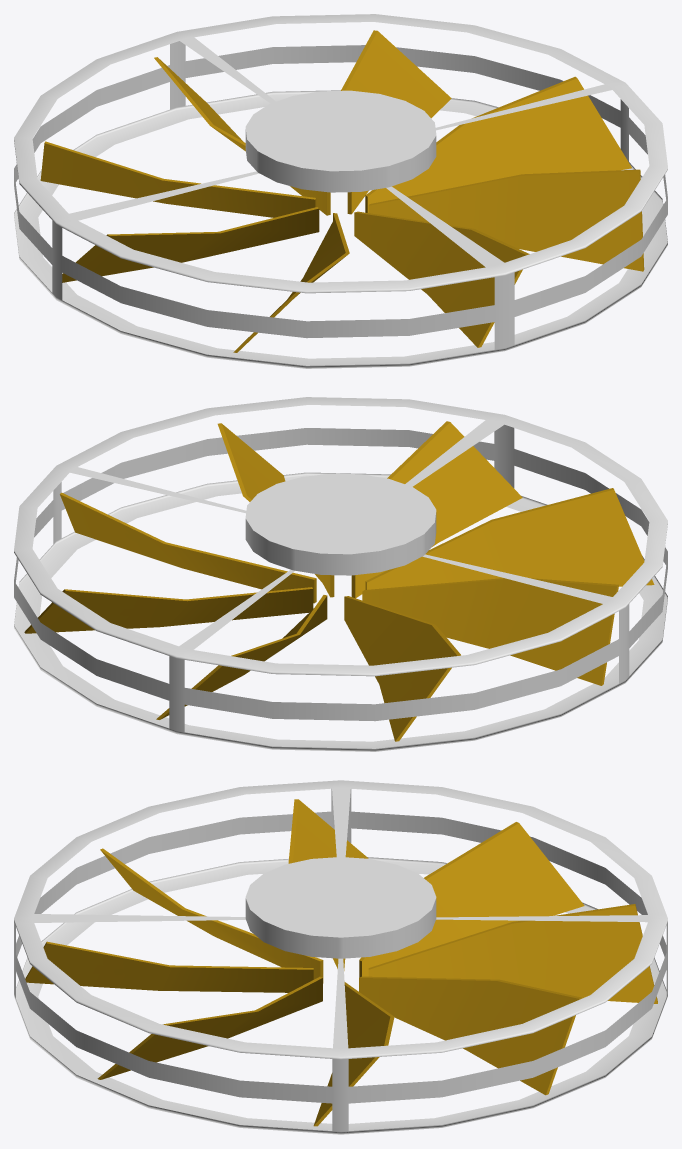
The model's file is Fan.fbx.
3 views of the same model, one above another, from view 1: azimuth 30°, elevation 25°; view 2: azimuth 150°, elevation 25°; view 3: azimuth 270°, elevation 25° (orthographic).
Parts seen in each view (by area): view 1: Fan_holding, pCube2, pCube1, pCube3, pCube7, pCube6, pCube9, pCube4, pCube8; view 2: Fan_holding, pCube4, pCube6, pCube3, pCube9, pCube7, pCube1, pCube2, pCube8; view 3: Fan_holding, pCube8, pCube9, pCube7, pCube3, pCube2, pCube4, pCube1, pCube6.
Boxes of the visible parts, x1,y1,x2,y2 form: Fan_holding: (14,14,667,368); pCube2: (368,169,644,271); pCube1: (365,76,631,212); pCube3: (354,211,529,347); pCube7: (40,141,316,217); pCube6: (62,207,319,282); pCube9: (341,30,451,214); pCube4: (233,213,349,352); pCube8: (154,57,330,215); Fan_holding: (14,397,667,751); pCube4: (365,488,654,589); pCube6: (362,578,618,685); pCube3: (351,421,522,598); pCube9: (24,587,313,633); pCube7: (344,596,460,741); pCube1: (60,492,316,603); pCube2: (217,423,334,597); pCube8: (156,595,327,719); Fan_holding: (14,780,667,1134); pCube8: (368,904,657,1003); pCube9: (359,976,581,1095); pCube7: (359,822,584,977); pCube3: (25,941,313,992); pCube2: (97,976,322,1079); pCube4: (100,848,323,983); pCube1: (313,982,394,1126); pCube6: (288,799,368,970).
Size of the model in its own units: 7.27 by 1.22 by 7.27.
